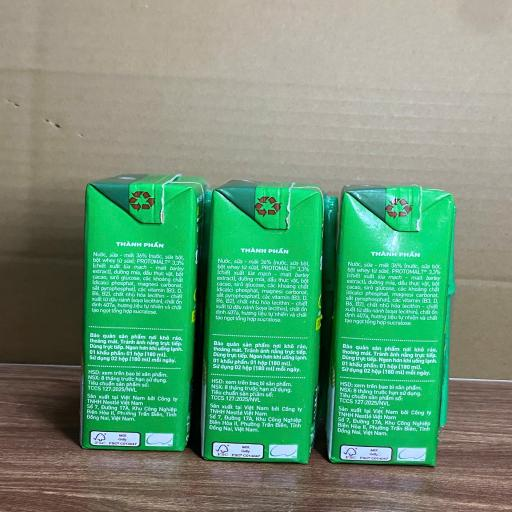milo: (336, 185, 448, 466), (206, 182, 319, 460), (84, 181, 193, 450)
